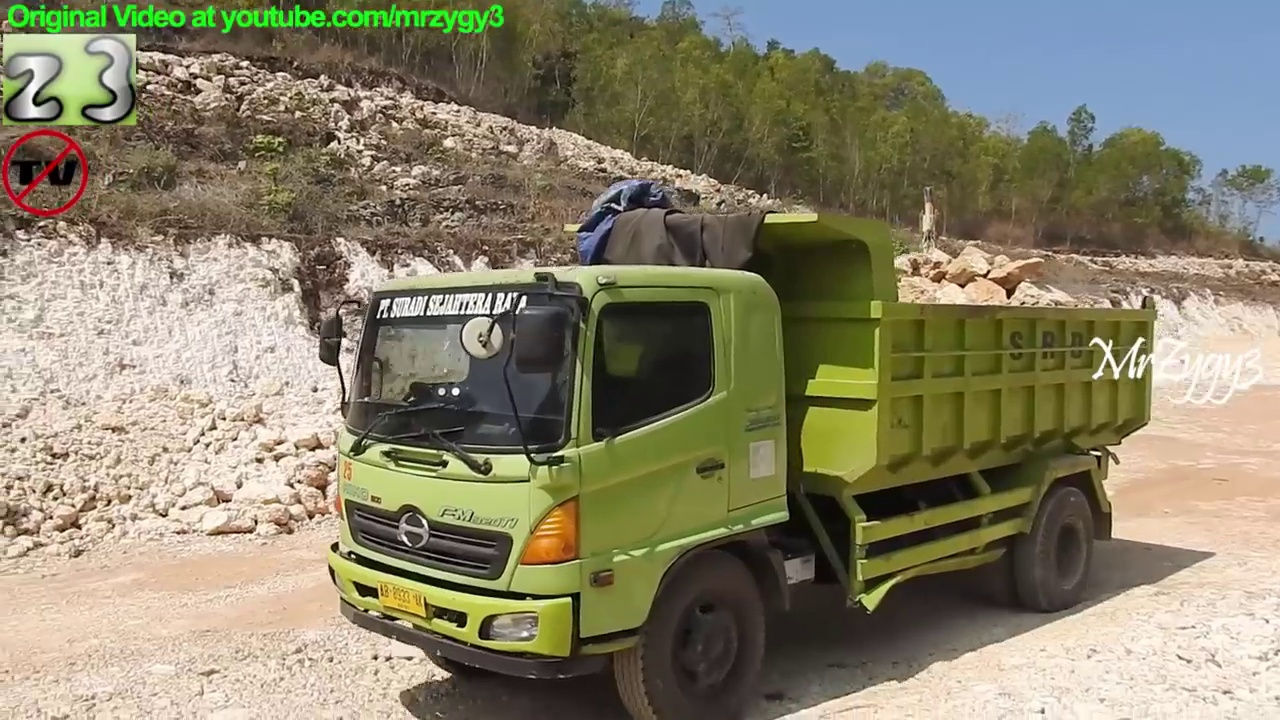excavator: (862, 181, 1015, 369)
truck: (306, 199, 1167, 720)
